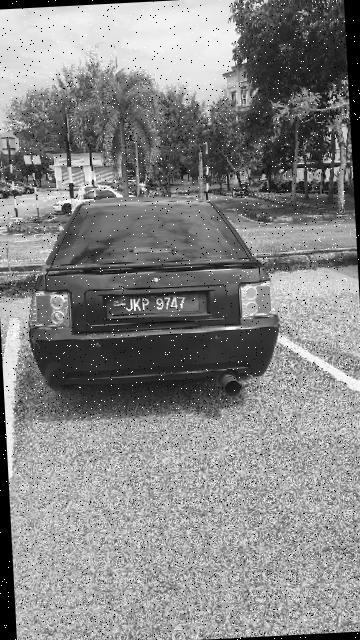License_Plate: (105, 288, 206, 322)
car: (22, 186, 289, 412)
